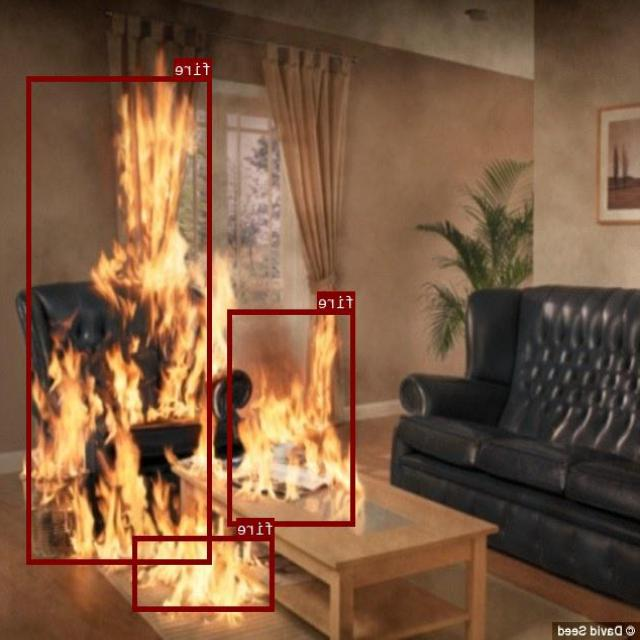fire: (28, 75, 212, 563), (228, 309, 356, 525), (134, 536, 275, 610)
